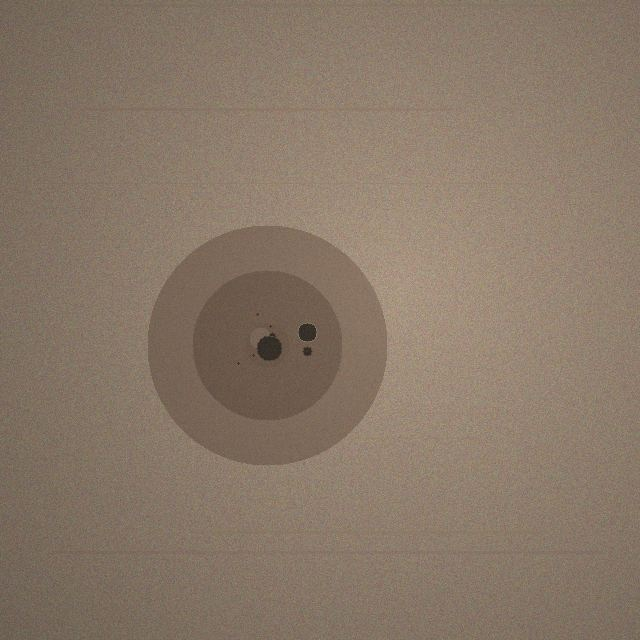shrinkage: (147, 225, 387, 465)
